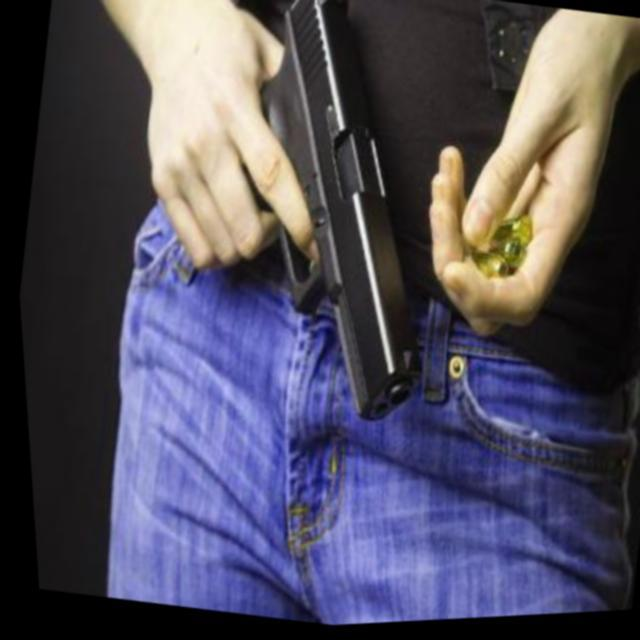weapon: (124, 0, 485, 457)
